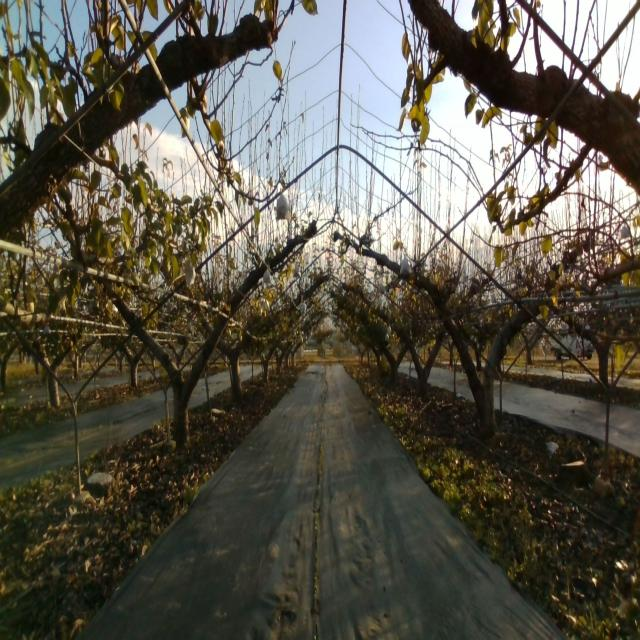pearbags: (276, 188, 291, 221), (399, 253, 413, 274), (185, 264, 196, 290)
